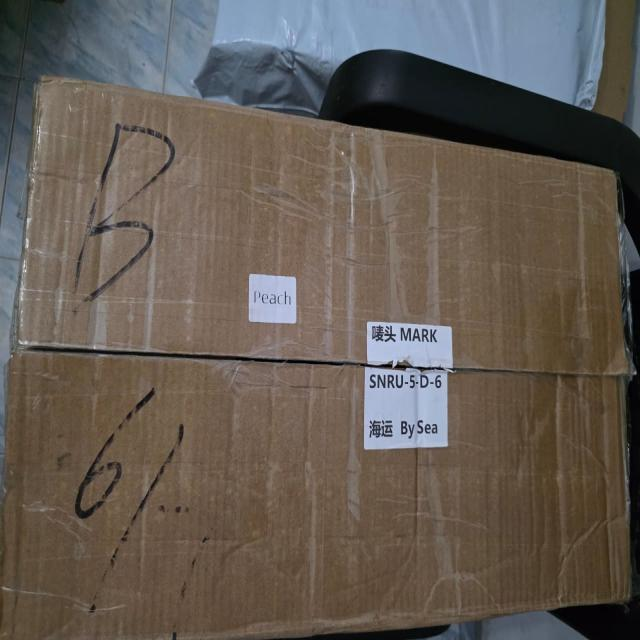carton_box: (2, 55, 640, 640)
export_mark_label: (364, 308, 454, 464)
package_damage: (1, 318, 640, 421)
